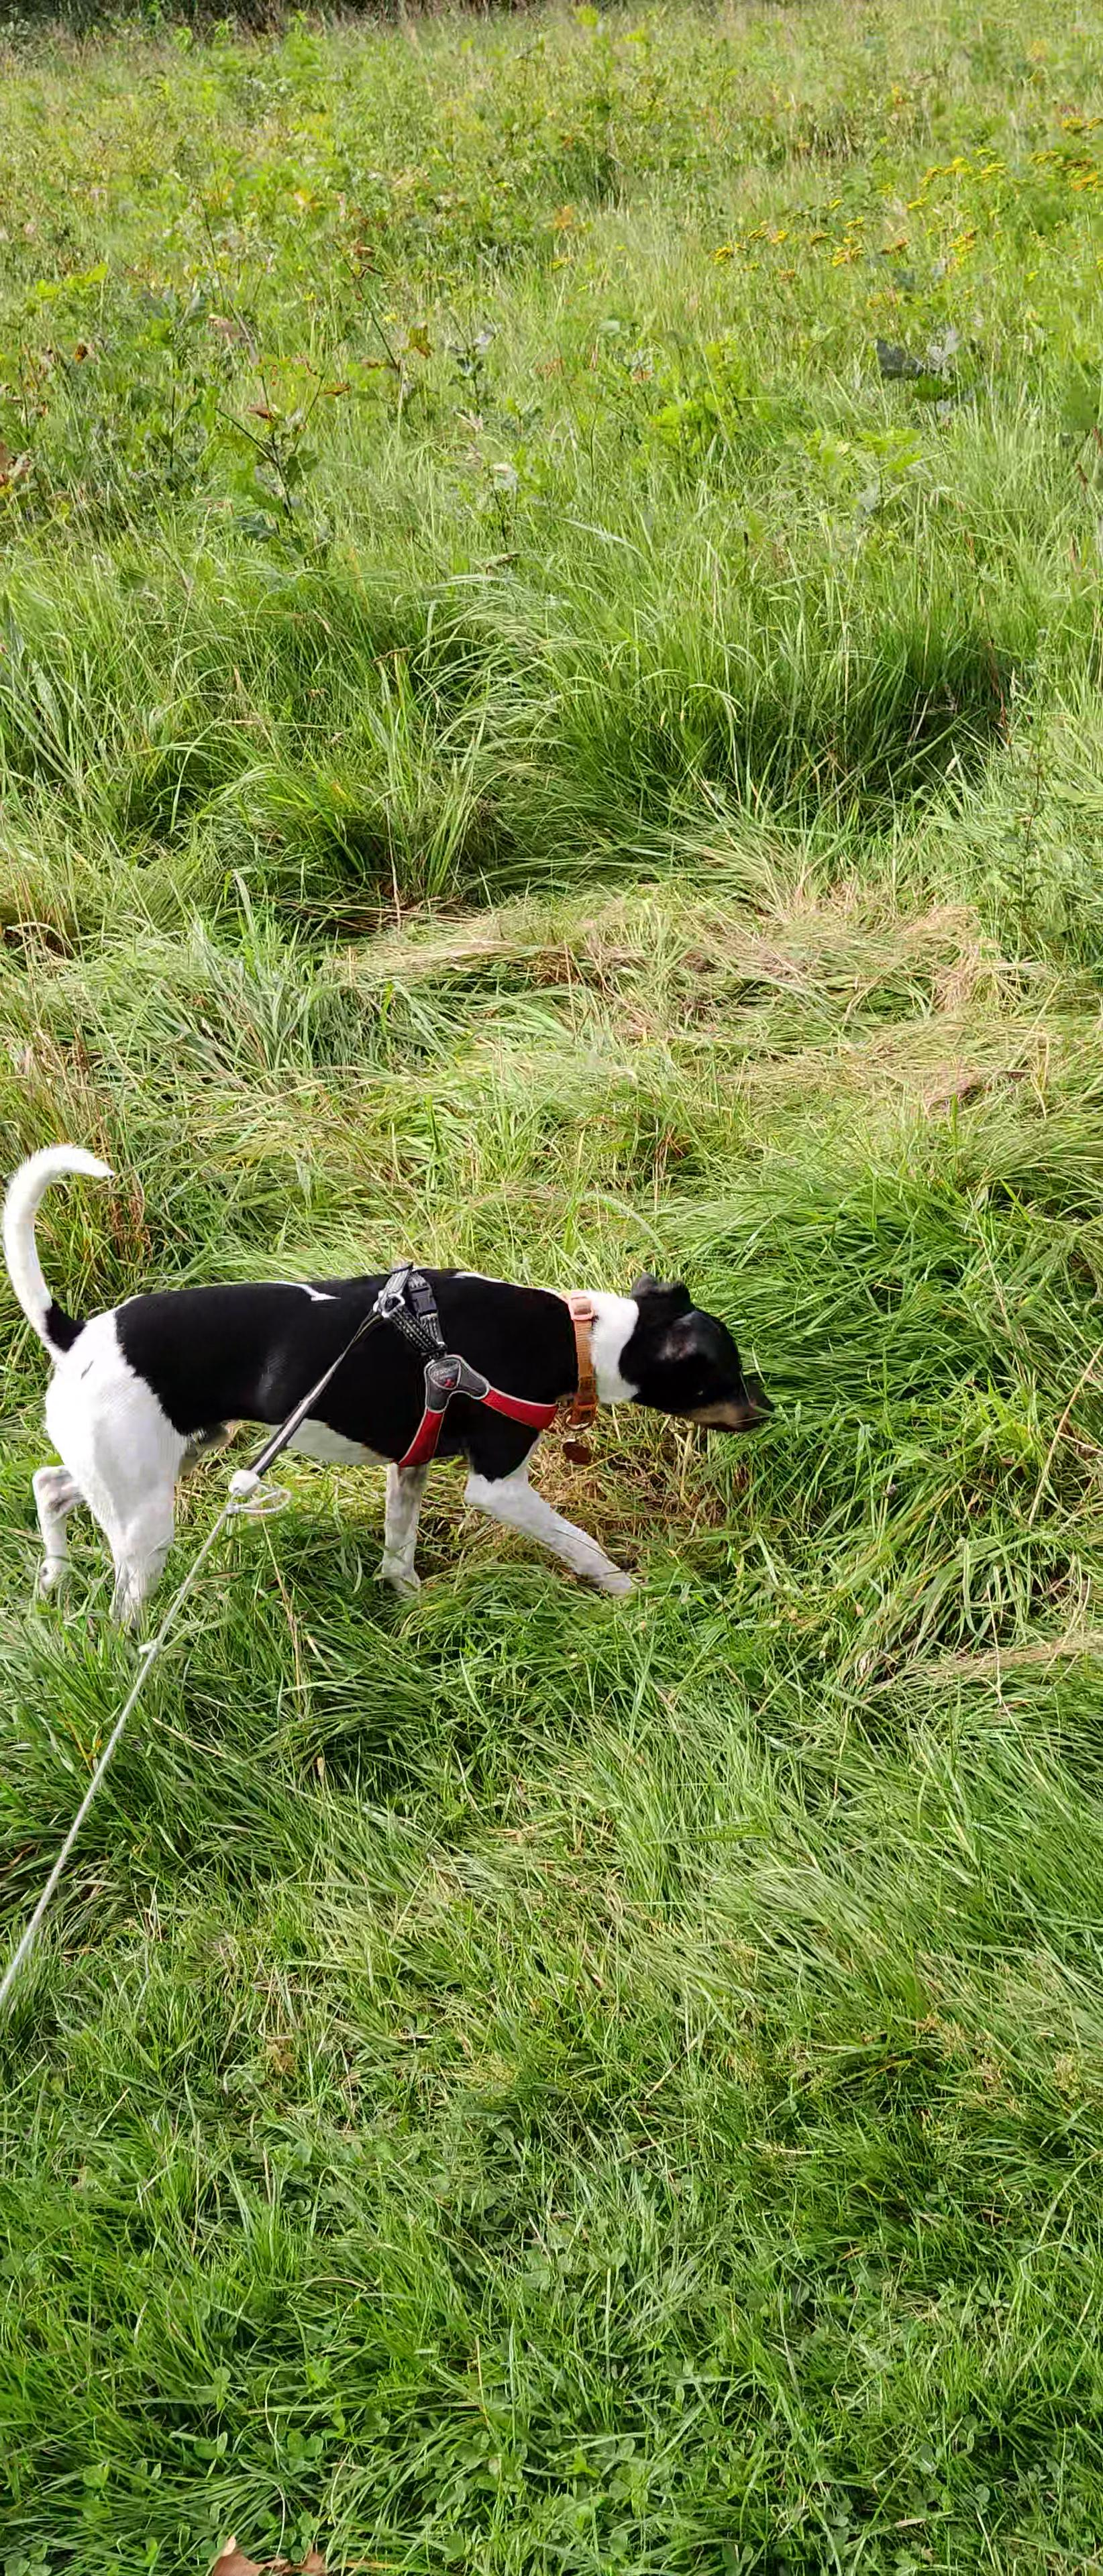Dog: (0, 1135, 778, 1636)
